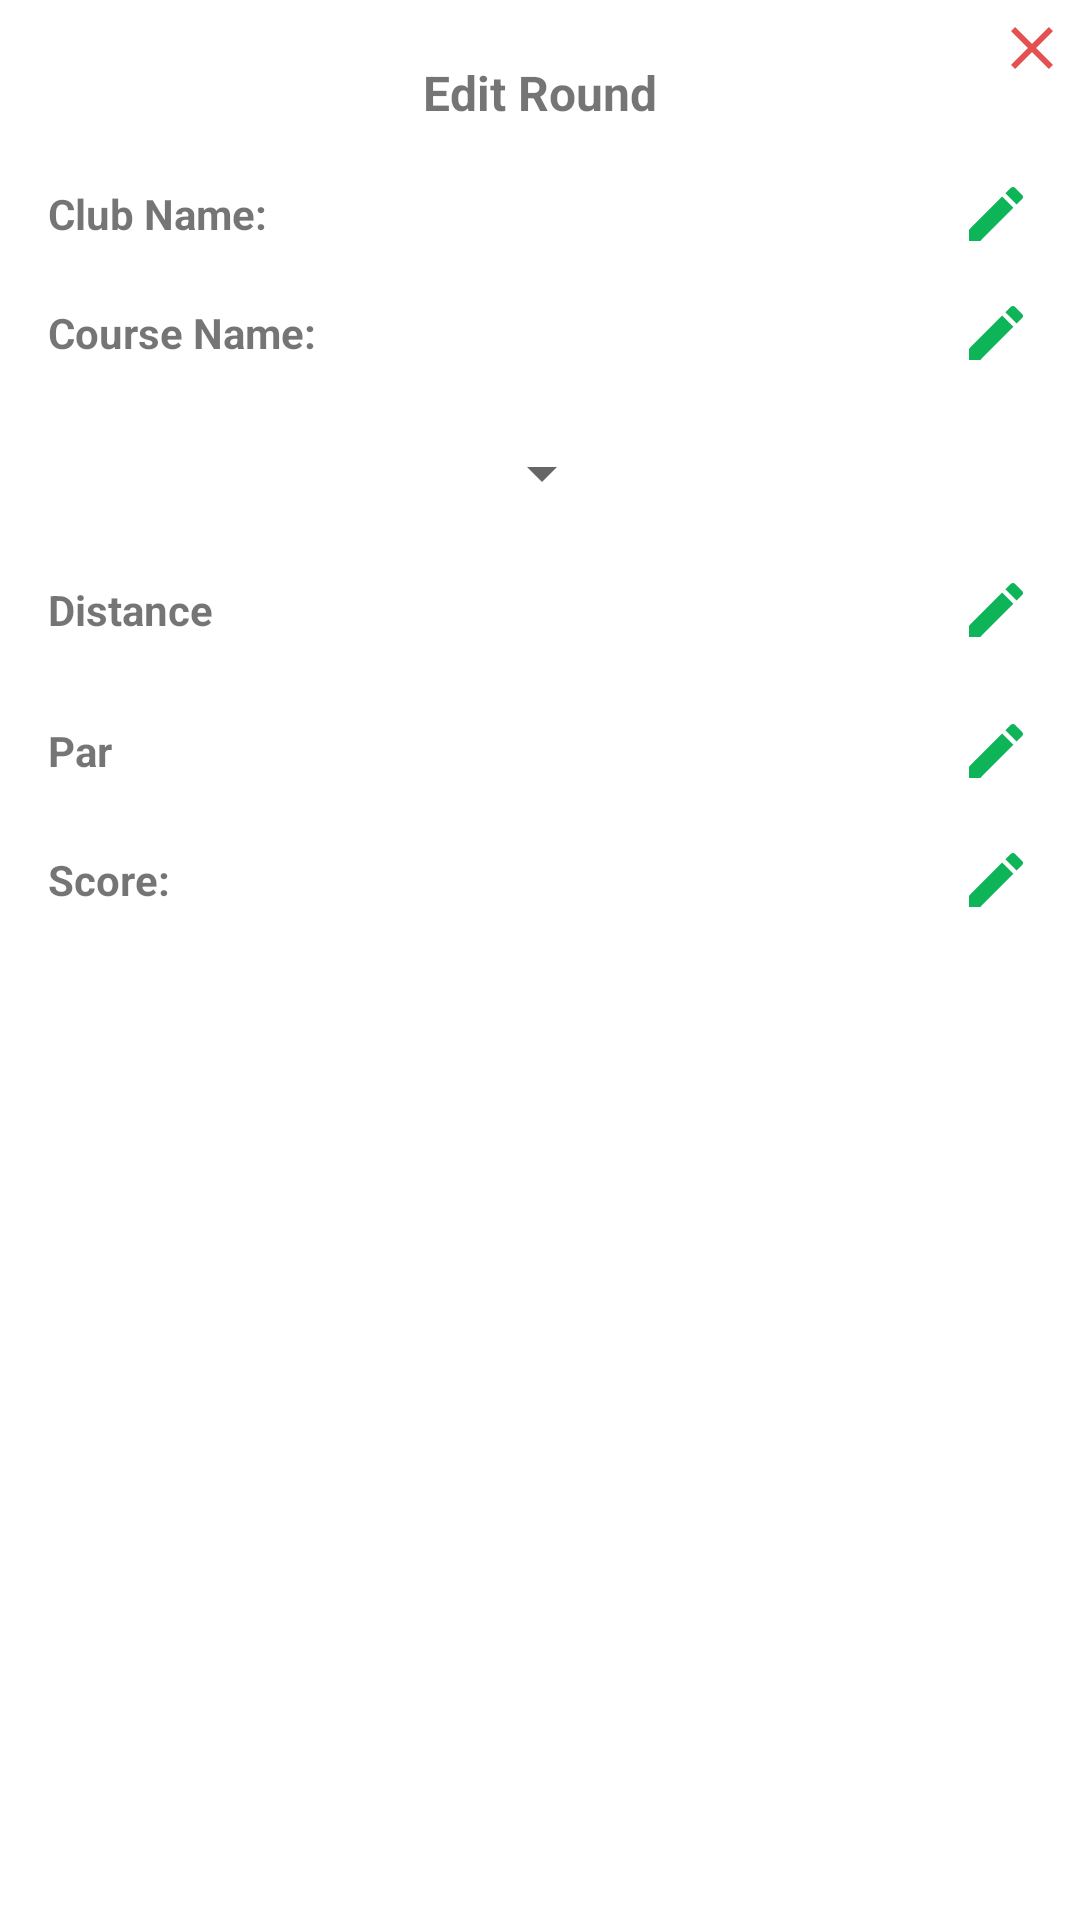

Screen size 1080 x 1920. Icon name, then its box in pixels as (x1=x1, y1=y1, x2=x2, y2=y2):
Edit Club Name: (x1=969, y1=187, x2=1023, y2=241)
Edit Course Name: (x1=969, y1=306, x2=1023, y2=360)
Edit Distance: (x1=969, y1=583, x2=1023, y2=637)
Edit Par: (x1=969, y1=724, x2=1023, y2=778)
Edit Score: (x1=969, y1=853, x2=1023, y2=907)
Exit Dialog: (x1=1011, y1=27, x2=1053, y2=69)
